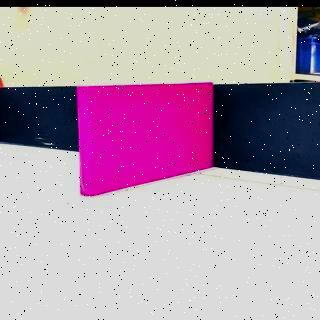xparking: (79, 88, 215, 172)
